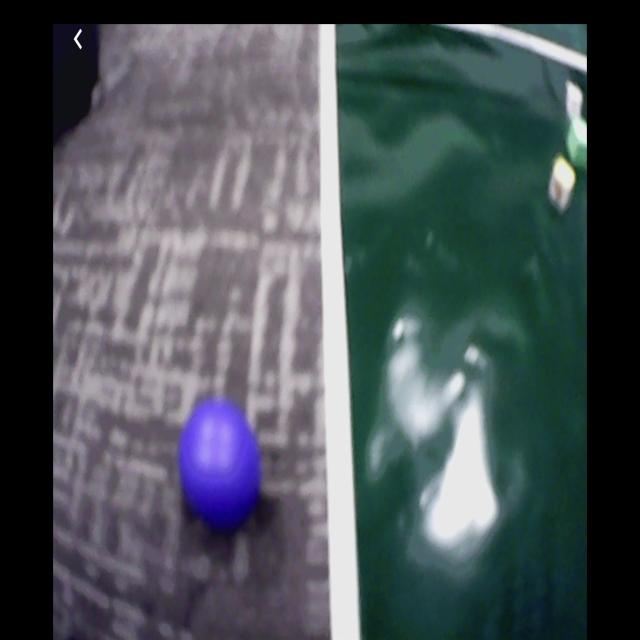ball: (180, 399, 261, 525)
